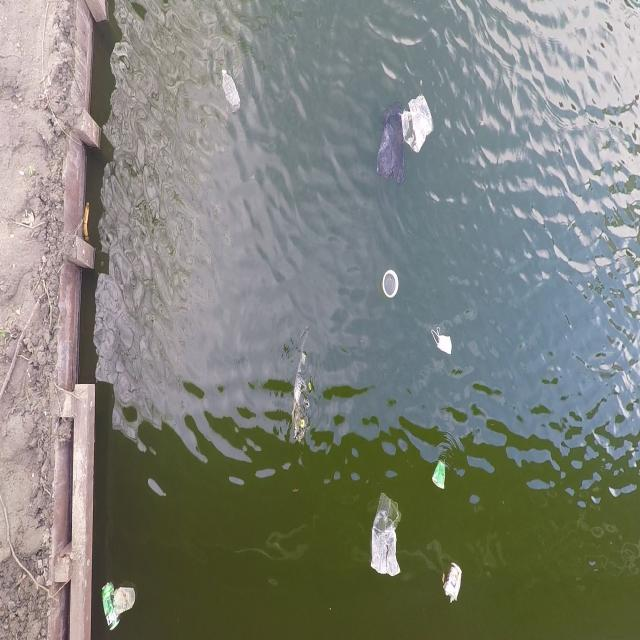Autre plastique: (379, 267, 403, 304)
Bouteille plastique: (216, 63, 243, 118)
Non plastique: (96, 574, 120, 634), (429, 454, 452, 495), (430, 323, 454, 359)
Sac plastique: (368, 489, 406, 585), (377, 95, 406, 192), (289, 329, 312, 450), (400, 93, 436, 156)
